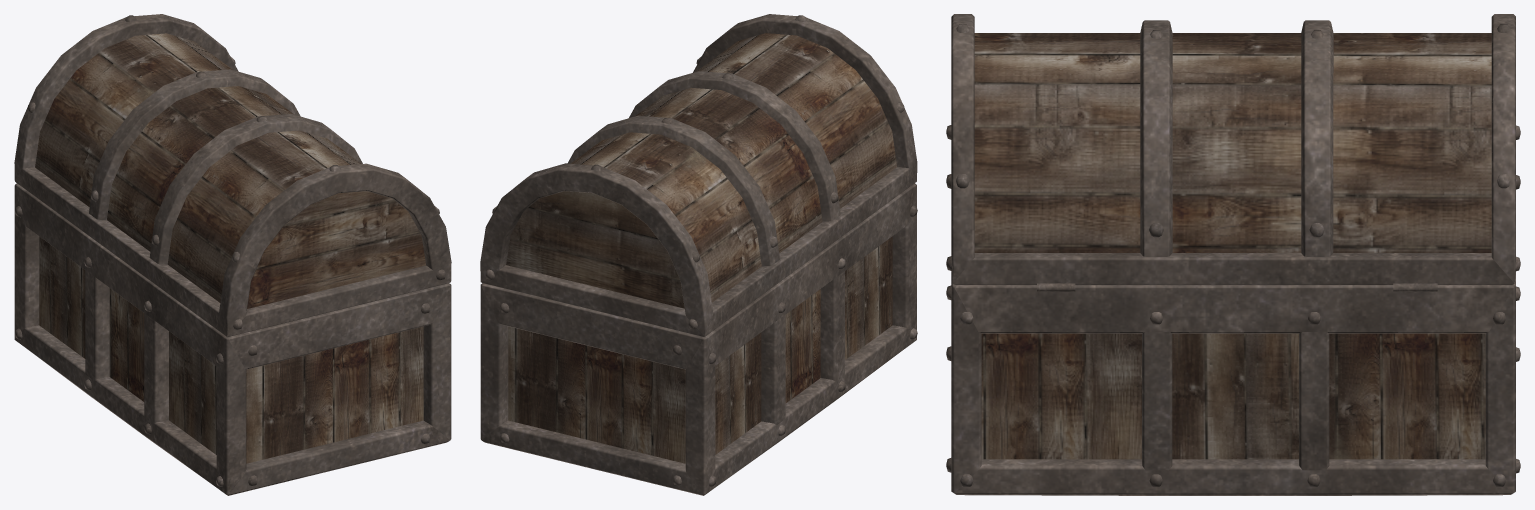
The model's file is SM_Treasure_Chest_01a.gltf.
3 views of the same model, side by side, from view 1: azimuth 30°, elevation 25°; view 2: azimuth 150°, elevation 25°; view 3: azimuth 270°, elevation 25° (orthographic). The views are drawn at different scales.
Visible parts, largest first — view 1: SM_Treasure_Chest_01a; view 2: SM_Treasure_Chest_01a; view 3: SM_Treasure_Chest_01a.
Boxes of the visible parts, box(x1,y1,x2,y2) form: SM_Treasure_Chest_01a: box(14, 14, 451, 495); SM_Treasure_Chest_01a: box(480, 14, 917, 495); SM_Treasure_Chest_01a: box(946, 14, 1520, 495).
Size of the model in its own units: 0.6854 by 0.8431 by 1.1.
Materials: 2 (2 with a texture image).
